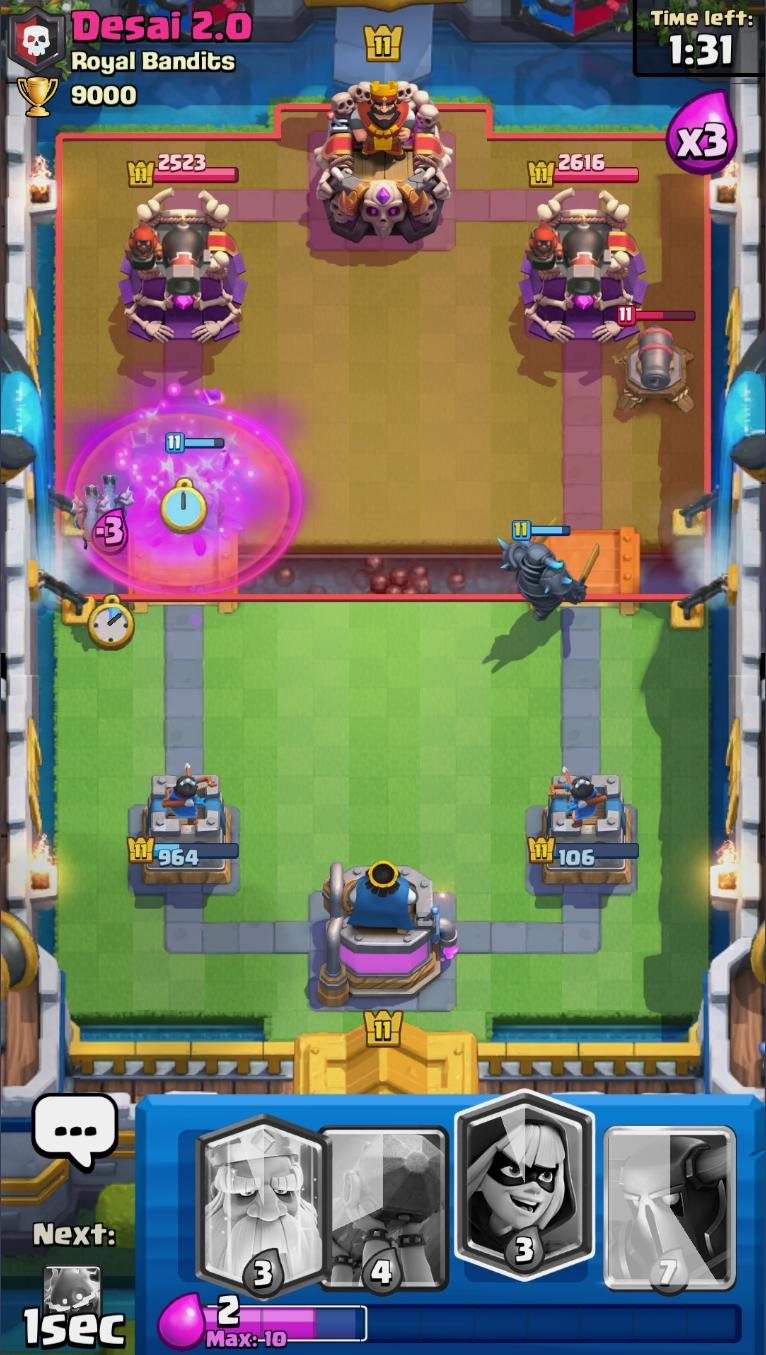BanditDeck: (456, 1096, 597, 1293)
BattleRamDeck: (310, 1094, 456, 1299)
Cannon: (616, 304, 697, 419)
Cannoneer: (524, 214, 609, 300), (127, 216, 207, 300)
ElectroSpiritNext: (41, 1261, 101, 1346)
Elixir: (203, 1296, 743, 1346)
EnemyTower: (121, 187, 250, 343), (520, 189, 650, 343)
KingTower: (314, 77, 456, 246)
MyKingTower: (319, 860, 457, 1011)
MyMinion: (66, 484, 114, 549), (87, 471, 137, 523)
MyPekka: (497, 519, 601, 624)
MyPrincessTower: (527, 774, 641, 890), (127, 776, 241, 890)
MyPrincessTowerHP: (127, 833, 241, 869), (526, 836, 641, 869)
MyRoyaleGhost: (161, 431, 236, 547)
PekkaDeck: (596, 1096, 741, 1293)
Rage: (60, 401, 307, 599)
RoyaleGhostDeck: (167, 1094, 313, 1294)
TowerPrincessHP: (129, 153, 241, 189), (529, 153, 640, 189)
